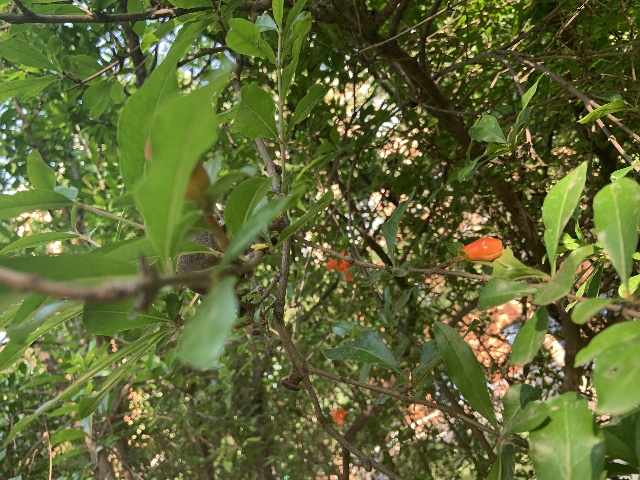bud: (460, 237, 502, 262)
flower: (326, 250, 352, 280), (330, 407, 346, 424)
